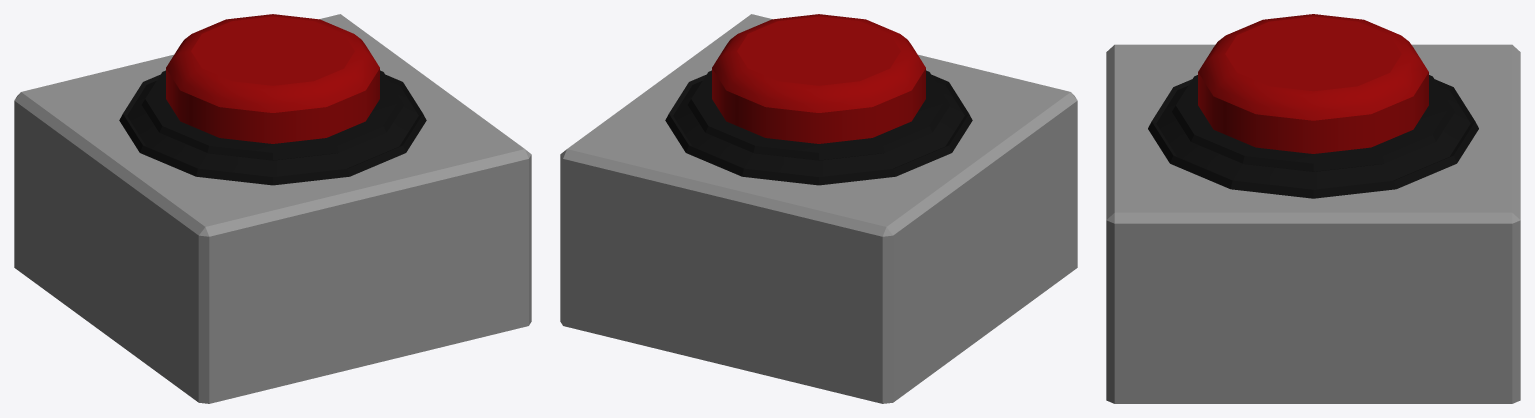
File: m_button.FBX
3 views of the same model, side by side, from view 1: azimuth 30°, elevation 25°; view 2: azimuth 150°, elevation 25°; view 3: azimuth 270°, elevation 25° (orthographic). The views are drawn at different scales.
Parts seen in each view (by area): view 1: dials006, button, buttonBase; view 2: dials006, button, buttonBase; view 3: dials006, button, buttonBase.
Boxes of the visible parts, x1,y1,x2,y2 form: dials006: (14,14,531,403); button: (166,14,379,143); buttonBase: (119,70,426,185); dials006: (560,14,1077,403); button: (712,14,925,143); buttonBase: (665,70,972,185); dials006: (1106,44,1520,403); button: (1198,14,1428,153); buttonBase: (1148,75,1478,198).
Bounding box in the file's own units: 1.97 × 1.38 × 1.97.
